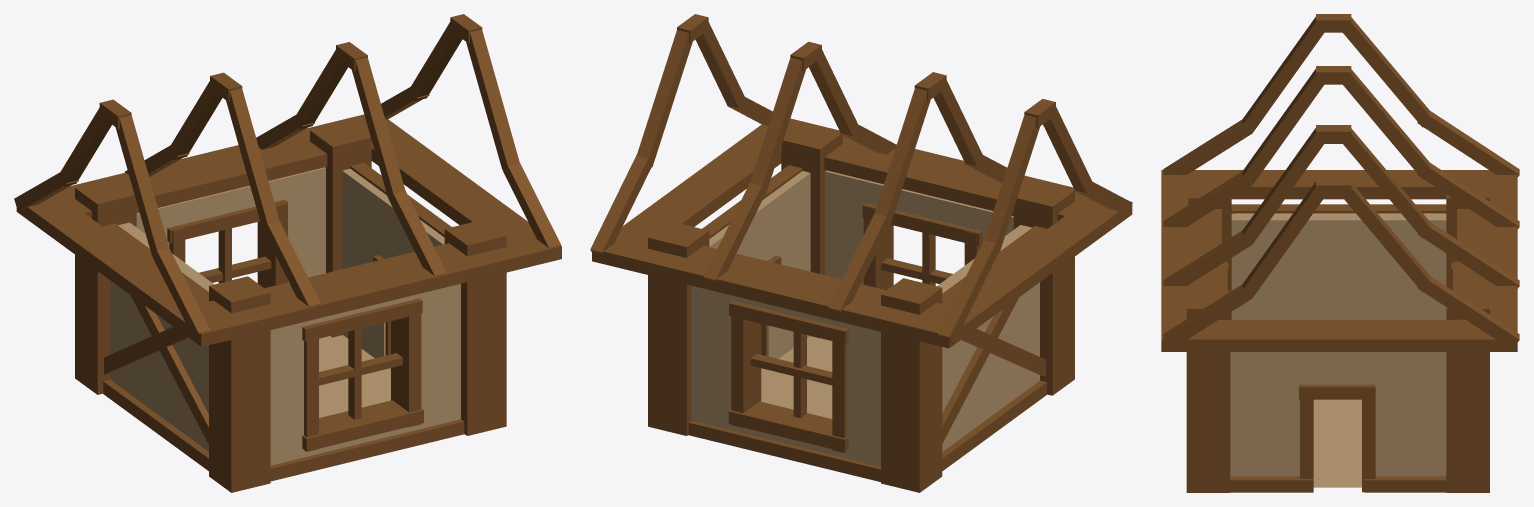
Rendered from BasicHouse3.fbx.
3 views of the same model, side by side, from view 1: azimuth 30°, elevation 25°; view 2: azimuth 150°, elevation 25°; view 3: azimuth 270°, elevation 25° (orthographic). The views are drawn at different scales.
Parts seen in each view (by area): view 1: poutre.046, Cube.001, poutre.002, poutre.004, Cube.002, poutre, Cube, Cube.003, poutre.001, poutre.003, Plane, poutre.011 (+29 smaller); view 2: poutre.046, Cube, poutre, poutre.001, Cube.002, Cube.001, poutre.002, Cube.003, poutre.004, poutre.005, poutre.016, Plane (+29 smaller); view 3: poutre.046, Cube.003, Cube.002, poutre.004, poutre.001, Plane, poutre.007, poutre.045, poutre.036, poutre.026, poutre.035, poutre.042 (+21 smaller).
Boxes of the visible parts, x1,y1,x2,y2 form: poutre.046: (16, 114, 561, 346); Cube.001: (270, 284, 460, 465); poutre.002: (209, 276, 270, 492); poutre.004: (444, 219, 506, 435); Cube.002: (110, 222, 213, 451); poutre: (75, 178, 136, 394); Cube: (136, 167, 325, 282); Cube.003: (342, 168, 444, 358); poutre.001: (310, 121, 371, 337); poutre.003: (270, 419, 464, 481); Plane: (319, 335, 390, 417); poutre.011: (302, 400, 423, 451); poutre.046: (592, 118, 1132, 348); Cube: (691, 285, 880, 466); poutre: (881, 278, 942, 492); poutre.001: (648, 221, 709, 435); Cube.002: (937, 225, 1039, 451); Cube.001: (825, 170, 1013, 284); poutre.002: (1013, 181, 1074, 395); Cube.003: (709, 171, 810, 358); poutre.004: (781, 123, 842, 338); poutre.005: (688, 420, 880, 481); poutre.016: (728, 401, 848, 452); Plane: (761, 336, 832, 418); poutre.046: (1161, 170, 1517, 351); Cube.003: (1230, 352, 1446, 476); Cube.002: (1231, 213, 1446, 319); poutre.004: (1186, 290, 1230, 492); poutre.001: (1446, 290, 1489, 492); Plane: (1313, 399, 1361, 487); poutre.007: (1230, 476, 1446, 492); poutre.045: (1242, 17, 1323, 132); poutre.036: (1242, 69, 1323, 183); poutre.026: (1242, 182, 1323, 296); poutre.035: (1242, 128, 1323, 243); poutre.042: (1343, 17, 1429, 127).
Bounding box in the file's own units: 1862 × 1667 × 1645.
